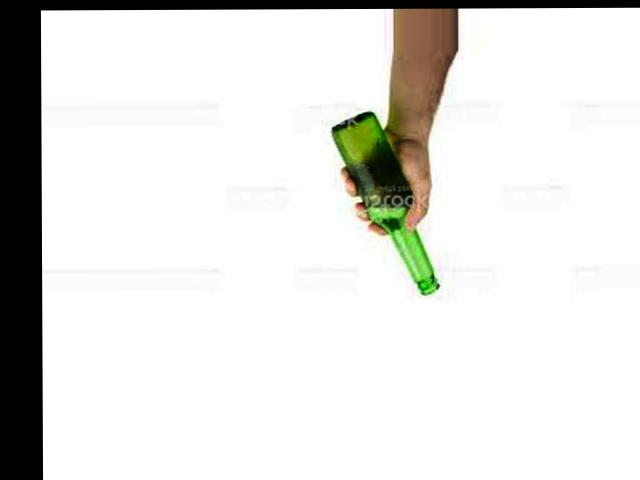beer: (330, 113, 440, 296)
